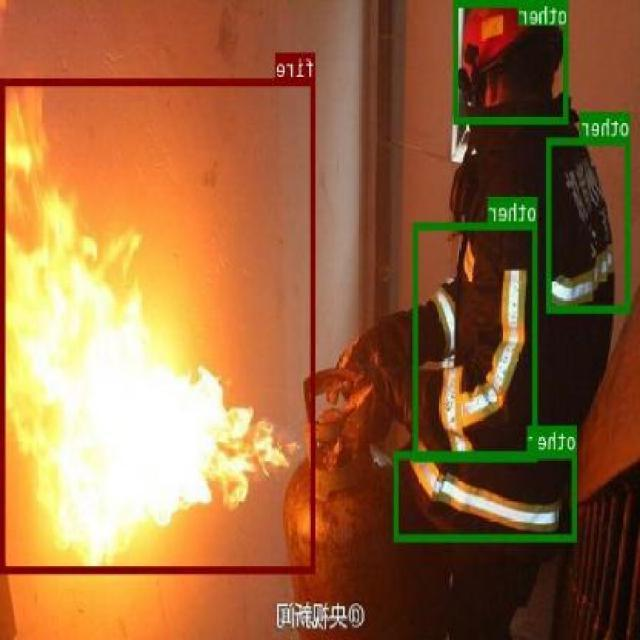Fire: (2, 78, 316, 572)
